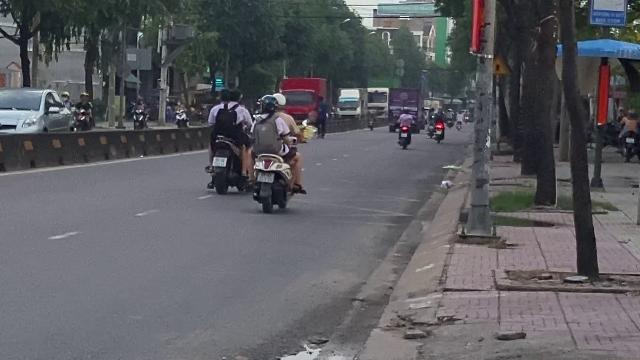helmet: (259, 94, 277, 114), (272, 93, 286, 107)
licenseplate: (257, 170, 273, 182)
motorcyclist: (249, 92, 307, 212)
